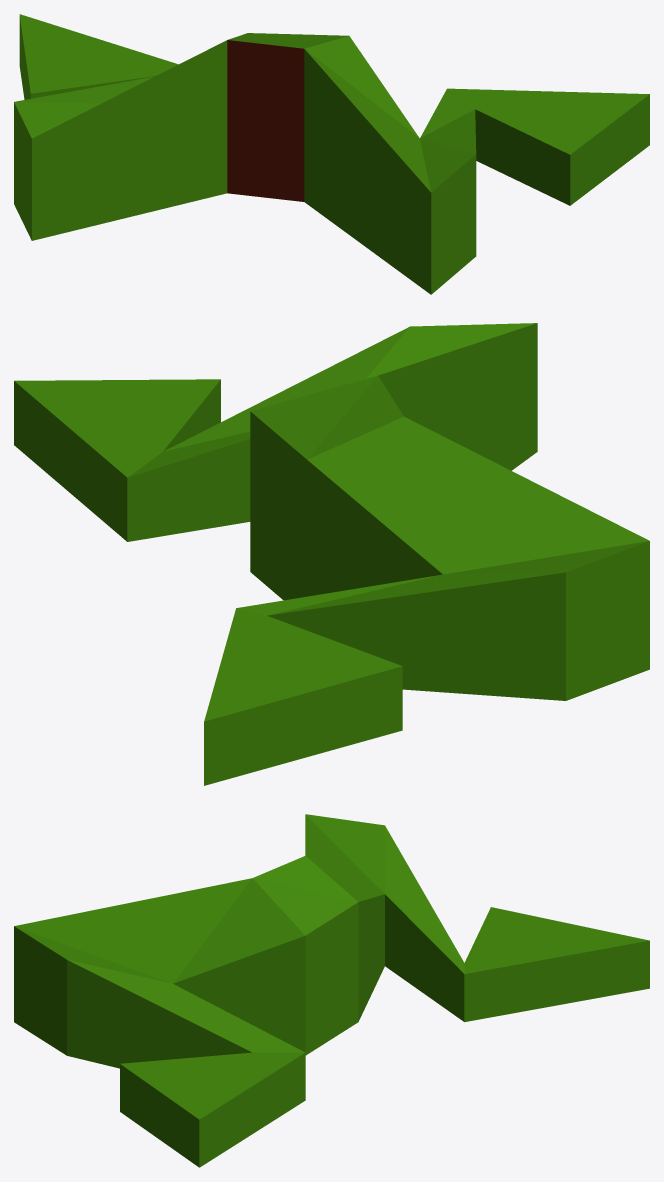
The model's file is inv_toads_legs.obj.
3 views of the same model, one above another, from view 1: azimuth 30°, elevation 25°; view 2: azimuth 150°, elevation 25°; view 3: azimuth 270°, elevation 25° (orthographic). The views are drawn at different scales.
Size of the model in its own units: 0.1797 by 0.0469 by 0.1875.
